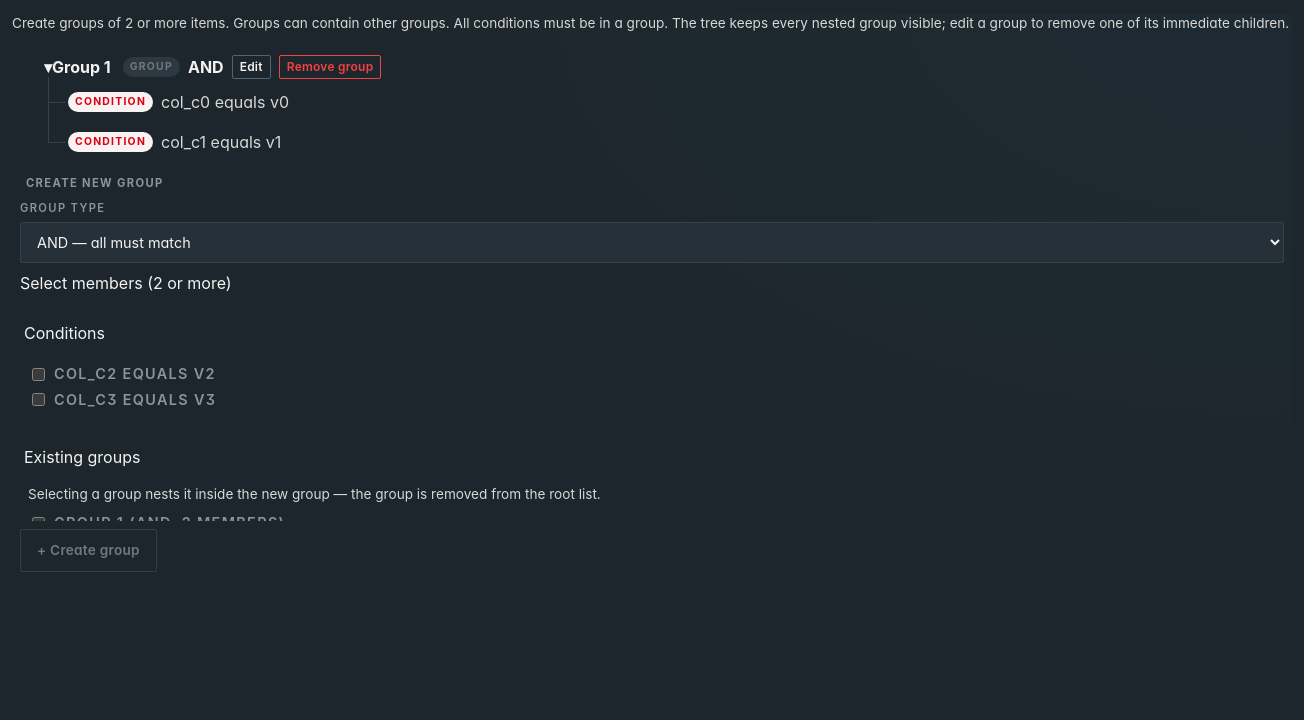
Test: GroupingTreeEditor (per_grouping) — multi-group behaviour › collapses and expands a group by clicking its name
The image size is (1304, 720).
Click the button with aria-label "Collapse Group 1" at point(77, 67), box [40, 53, 115, 81]
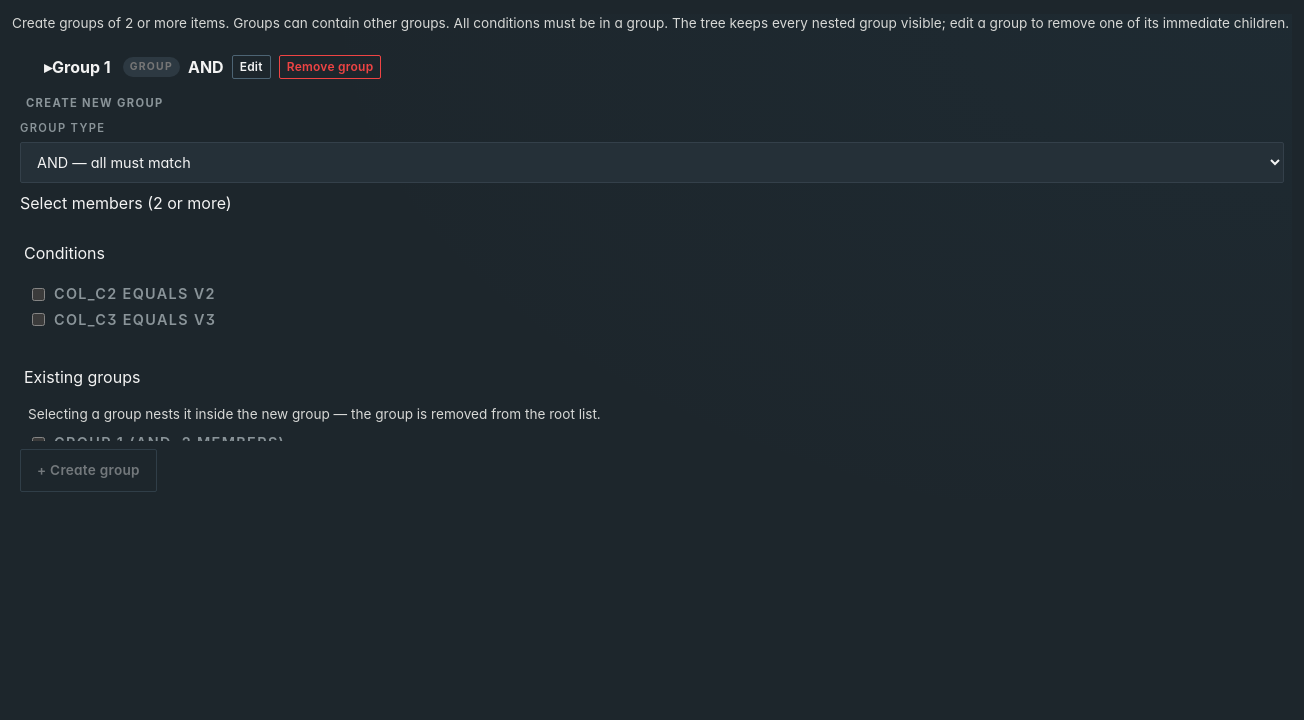
Result: the text "col_c0 equals v0" is gone
Click the button with aria-label "Expand Group 1" at point(77, 67), box [40, 53, 115, 81]
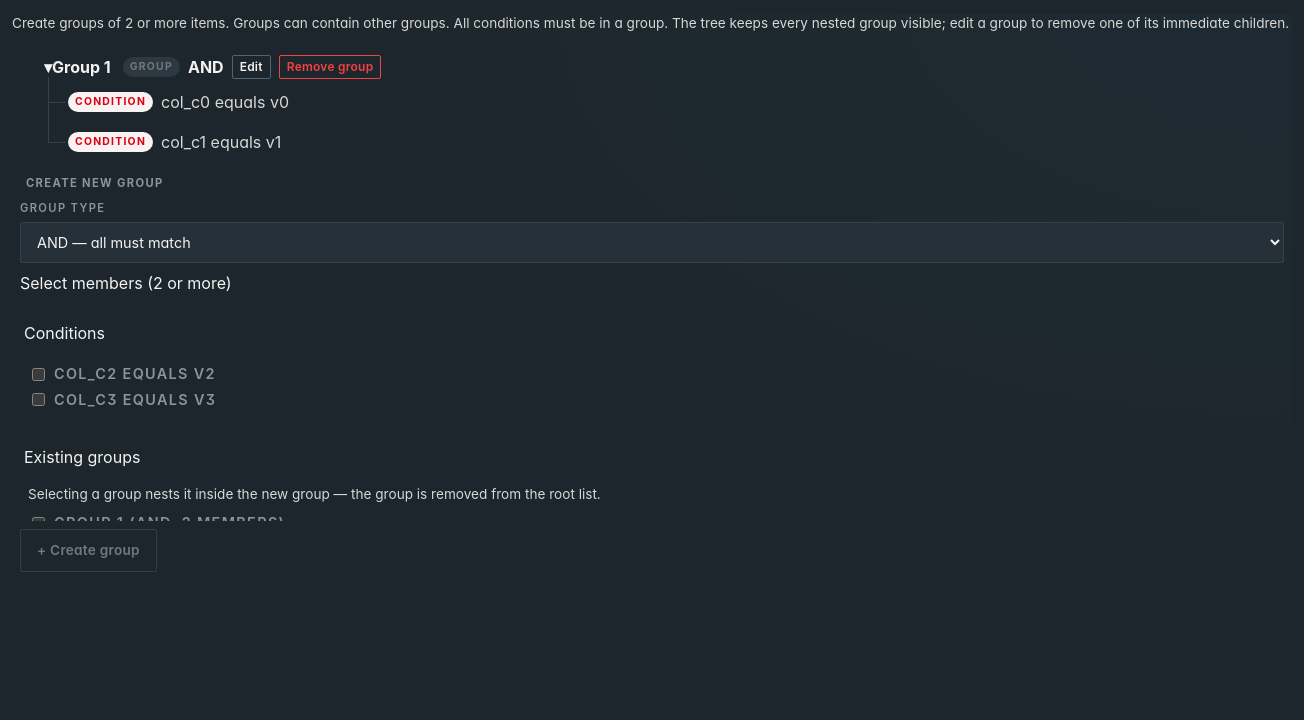
Result: the text "col_c0 equals v0" is shown at [161, 90, 289, 114]
